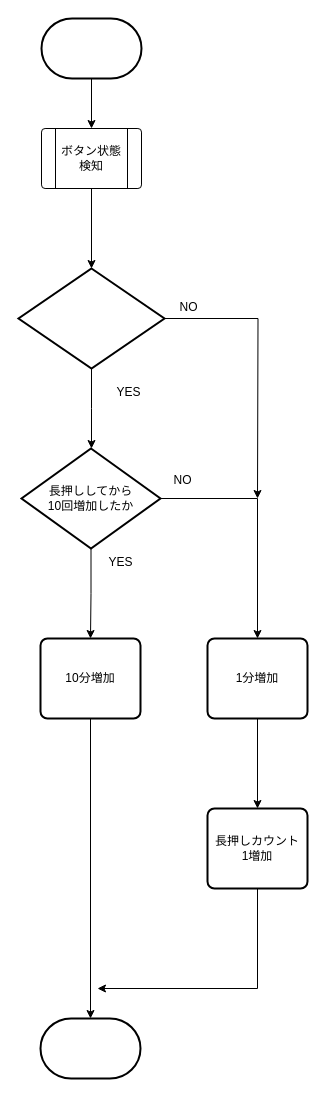
Image size: 325x1096. Some labels were removed from this diagram. Here are the shapes that lost their labels. From the top down, the box of each, then its label:
(40, 17, 142, 79): 分カウント
(17, 267, 165, 369): ボタンは 長押しか
(39, 1017, 141, 1079): END
